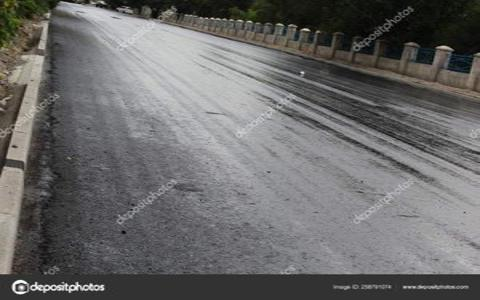Proper road: (43, 51, 256, 236), (328, 63, 471, 187)
